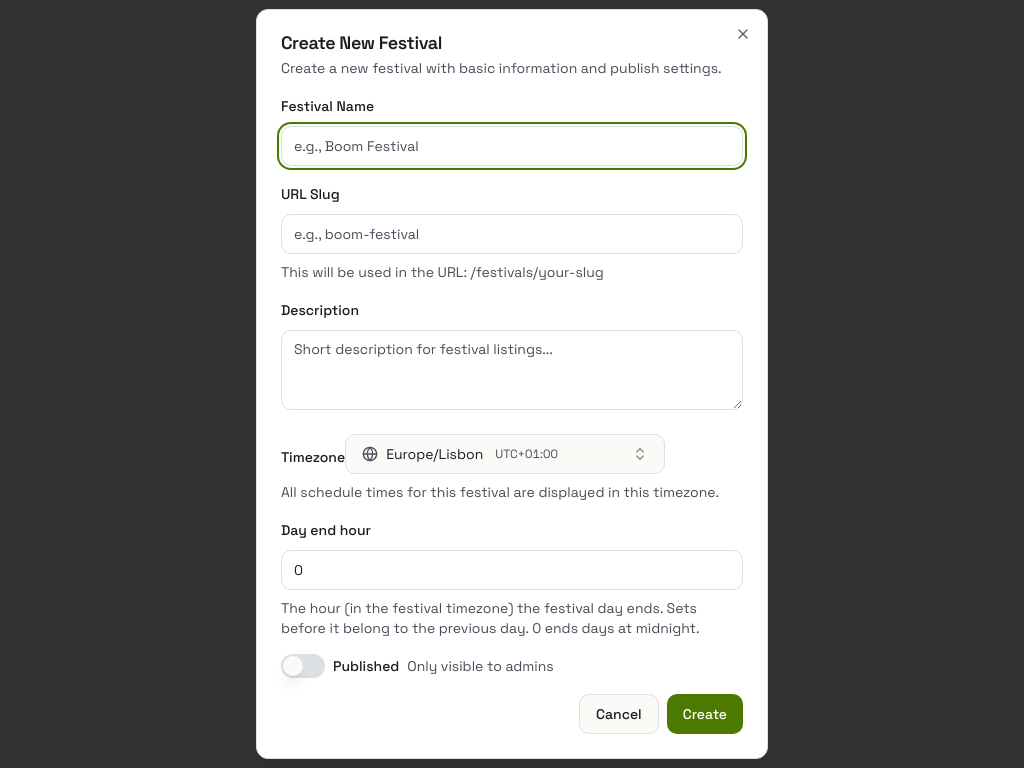
Scenario: FestivalDialog › blocks submit when the day end hour is outside 0-23
Type "Boom Fest" into the field labelled "Festival Name".
click(512, 146); type("Boom Fest")  # box [281,126,743,166]
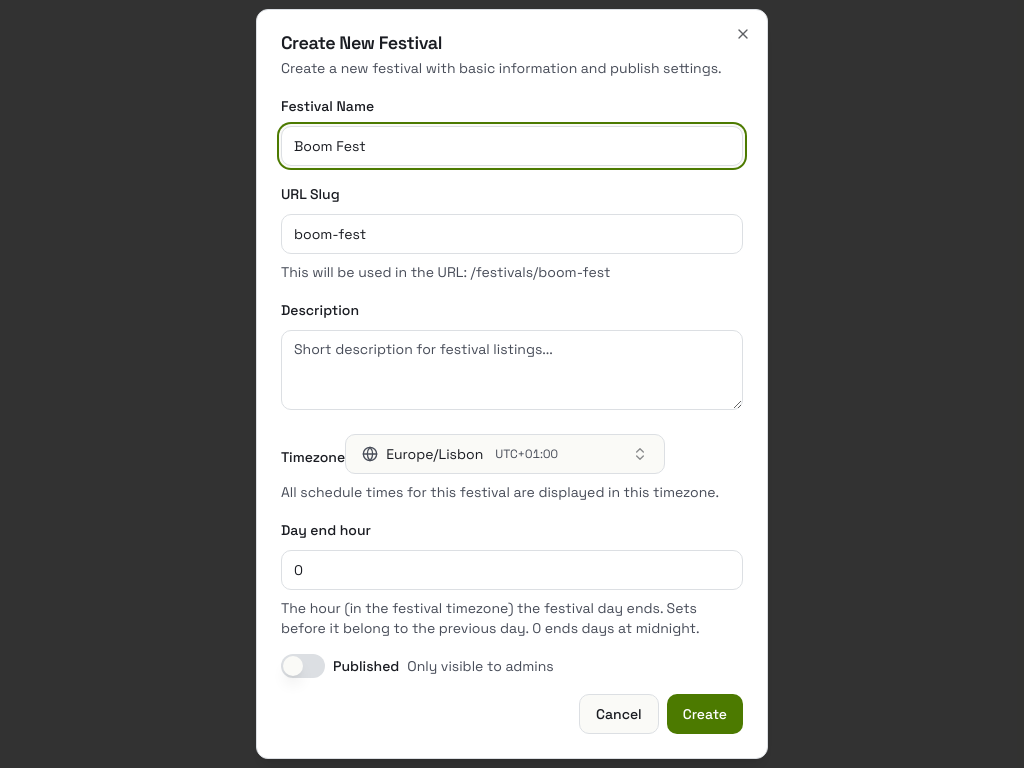
Replace the text in the number field labelled "Day end hour" with "24" at (512, 570), box [281,550,743,590]
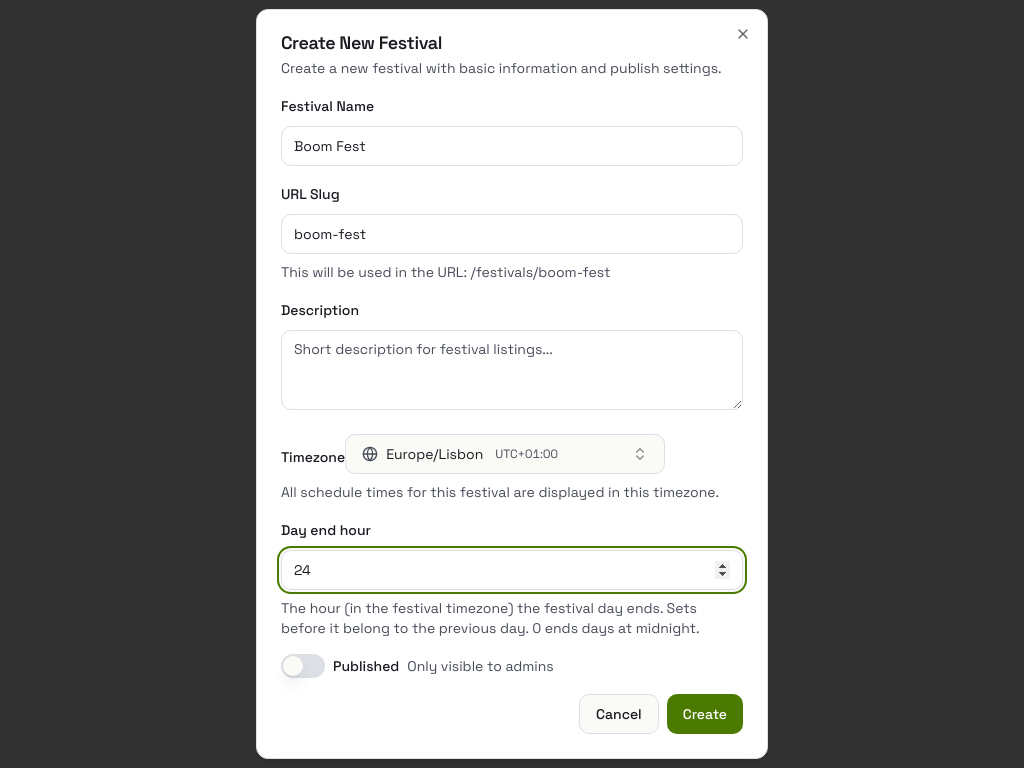
Click the button "Create".
click(705, 714)  # box [667,694,743,734]
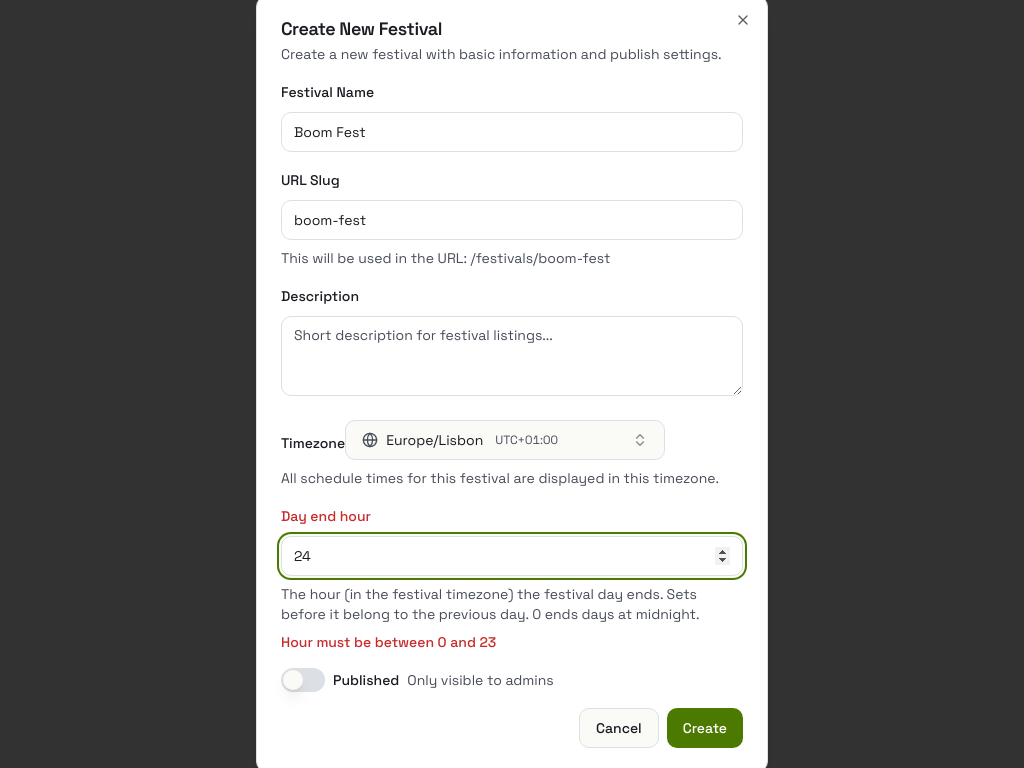
expect the message reads "Hour must be between 0 and 23": met, box [281,633,496,651]
